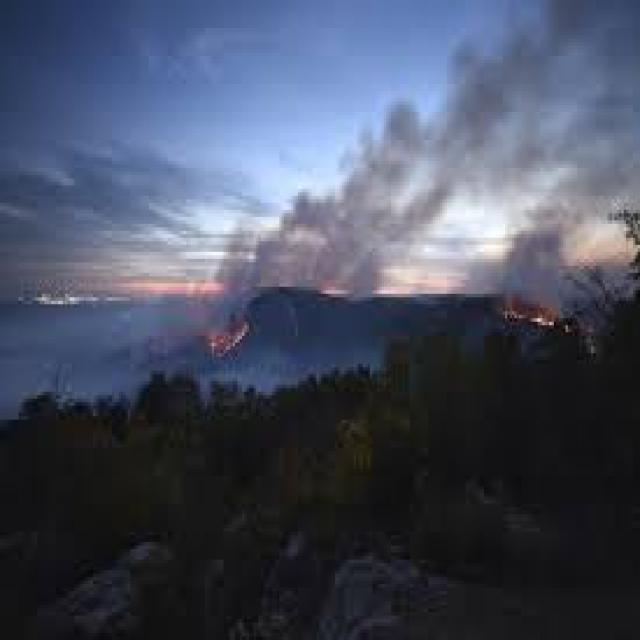Fire: (204, 320, 249, 356), (498, 306, 558, 332)
Smoke: (212, 0, 640, 306)
